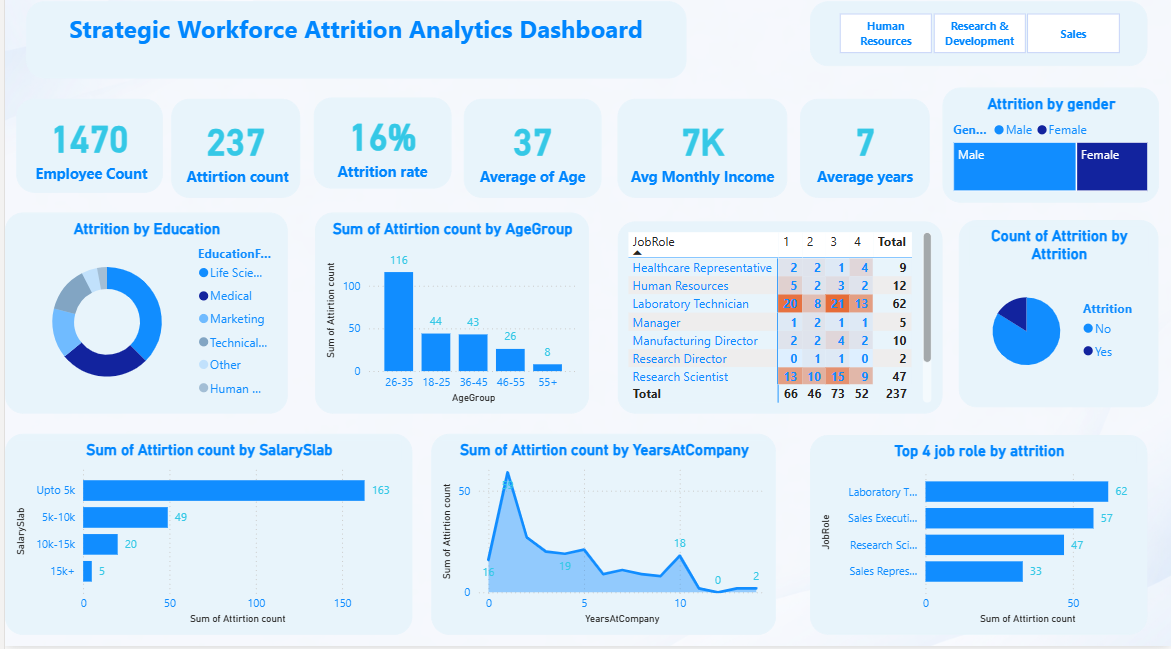

This screenshot's page, from the dashboard's own definition file:
{"tool":"powerbi","page":{"name":"HR Attrition Dashboard","canvas":[1280,720],"ordinal":0},"visuals":[{"type":"textbox","box":[23.3,12.3,724.5,85.1],"z":0},{"type":"card","fields":{"Values":["Sum(HR_Analytics.EmployeeCount)"]},"box":[12.3,119.4,160.5,102.9],"z":1000},{"type":"card","fields":{"Values":["Sum(HR_Analytics.Attirtion count)"]},"box":[182.5,119.4,141.3,108.4],"z":2000},{"type":"card","fields":{"Values":["HR_Analytics.Attrition rate"]},"box":[338.9,118,150.9,100.2],"z":3000},{"type":"card","fields":{"Values":["Avg(HR_Analytics.Age)"]},"box":[503.6,119.4,150.9,108.4],"z":4000},{"type":"card","fields":{"Values":["Avg(HR_Analytics.MonthlyIncome)"]},"box":[672.4,119.4,186.6,108.4],"z":5000},{"type":"card","fields":{"Values":["Avg(HR_Analytics.YearsAtCompany)"]},"box":[872.7,119.4,142.7,108.4],"z":6000},{"type":"treemap","title":"Attrition by gender","fields":{"Group":["HR_Analytics.Gender"],"Values":["Sum(HR_Analytics.Attirtion count)"]},"box":[1029.2,107,237.4,126.2],"z":7000},{"type":"donutChart","title":"Attrition by Education","fields":{"Y":["Sum(HR_Analytics.Attirtion count)"],"Category":["HR_Analytics.EducationField"]},"box":[0,244.3,310.1,220.9],"z":8000},{"type":"columnChart","fields":{"Category":["HR_Analytics.AgeGroup"],"Y":["Sum(HR_Analytics.Attirtion count)"]},"box":[340.3,244.3,300.5,220.9],"z":9000},{"type":"pivotTable","title":"Attritiom by job role and statisfaction","fields":{"Rows":["HR_Analytics.JobRole"],"Columns":["HR_Analytics.JobSatisfaction"],"Values":["Sum(HR_Analytics.Attirtion count)"]},"box":[672.4,253.9,356.8,211.3],"z":10000},{"type":"pieChart","fields":{"Category":["HR_Analytics.Attrition"],"Y":["CountNonNull(HR_Analytics.Attrition)"]},"box":[1047,252.5,219.6,205.8],"z":11000},{"type":"barChart","fields":{"Category":["HR_Analytics.SalarySlab"],"Y":["Sum(HR_Analytics.Attirtion count)"]},"box":[0,487.1,447.3,220.9],"z":12000},{"type":"areaChart","fields":{"Category":["HR_Analytics.YearsAtCompany"],"Y":["Sum(HR_Analytics.Attirtion count)"]},"box":[467.9,487.1,378.7,220.9],"z":13000},{"type":"barChart","title":"Top 4 job role by attrition","fields":{"Category":["HR_Analytics.JobRole"],"Y":["Sum(HR_Analytics.Attirtion count)"]},"box":[883.7,488.5,370.5,219.6],"z":14000},{"type":"slicer","title":"Department","fields":{"Values":["HR_Analytics.Department"]},"box":[883.7,12.3,370.5,71.4],"z":15000}]}

Visuals, with their boxes in screenshot pixels (x1, y1, x2, y2), scaled from the page's 1280x720 canvas onto the 1171x649 screenshot:
textbox: 21 11 684 88
card - Sum(HR_Analytics.EmployeeCount): 11 108 158 200
card - Sum(HR_Analytics.Attirtion count): 167 108 296 205
card - HR_Analytics.Attrition rate: 310 106 448 197
card - Avg(HR_Analytics.Age): 461 108 599 205
card - Avg(HR_Analytics.MonthlyIncome): 615 108 786 205
card - Avg(HR_Analytics.YearsAtCompany): 798 108 929 205
"Attrition by gender" treemap: 942 96 1159 210
"Attrition by Education" donutChart: 0 220 284 419
columnChart - HR_Analytics.AgeGroup x Sum(HR_Analytics.Attirtion count): 311 220 586 419
"Attritiom by job role and statisfaction" pivotTable: 615 229 942 419
pieChart - HR_Analytics.Attrition x CountNonNull(HR_Analytics.Attrition): 958 228 1159 413
barChart - HR_Analytics.SalarySlab x Sum(HR_Analytics.Attirtion count): 0 439 409 638
areaChart - HR_Analytics.YearsAtCompany x Sum(HR_Analytics.Attirtion count): 428 439 775 638
"Top 4 job role by attrition" barChart: 808 440 1147 638
"Department" slicer: 808 11 1147 75
